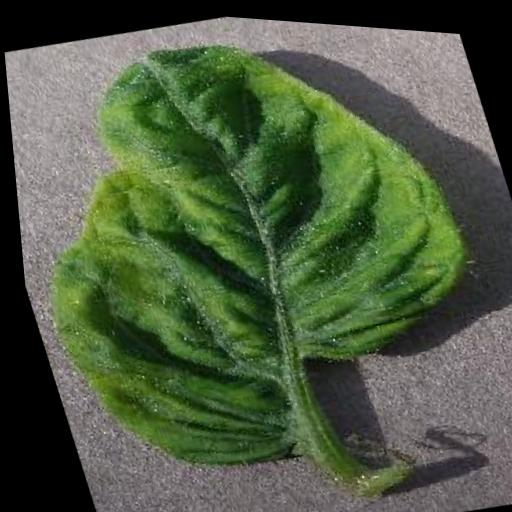Yellow Leaf Curl Virus: (0, 0, 512, 510)
